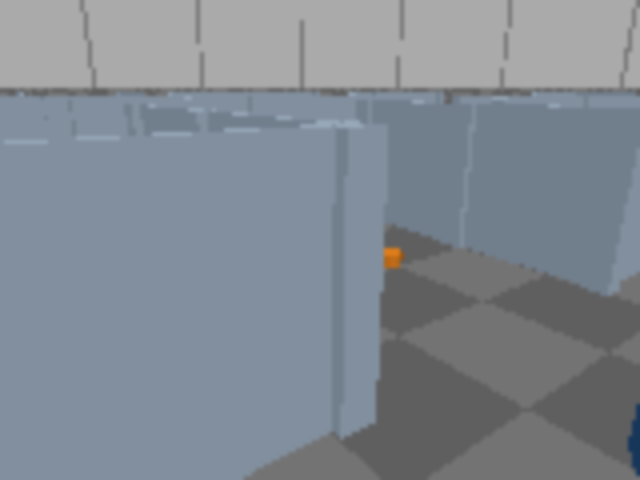puck: (380, 248, 402, 268)
